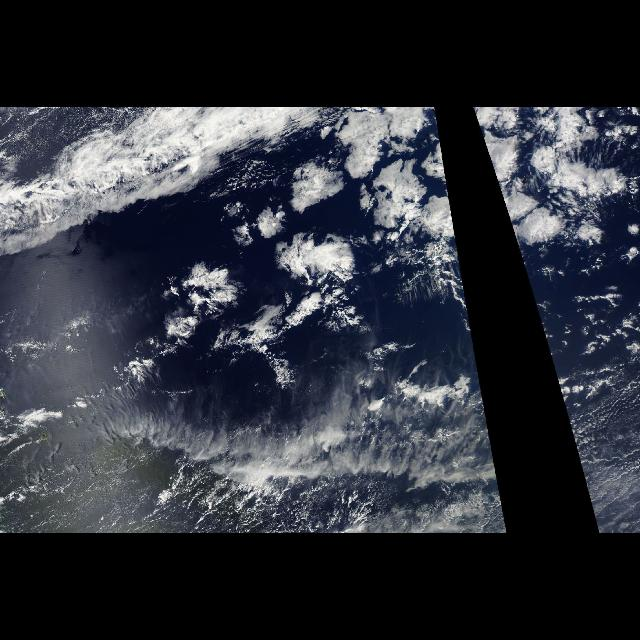Flower: (159, 108, 481, 382), (470, 108, 636, 382)
Sugar: (4, 442, 506, 532), (573, 442, 639, 532)
